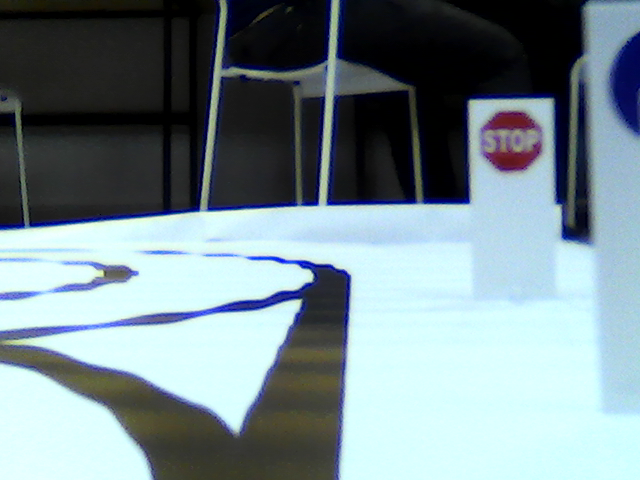Stop: (480, 109, 544, 172)
